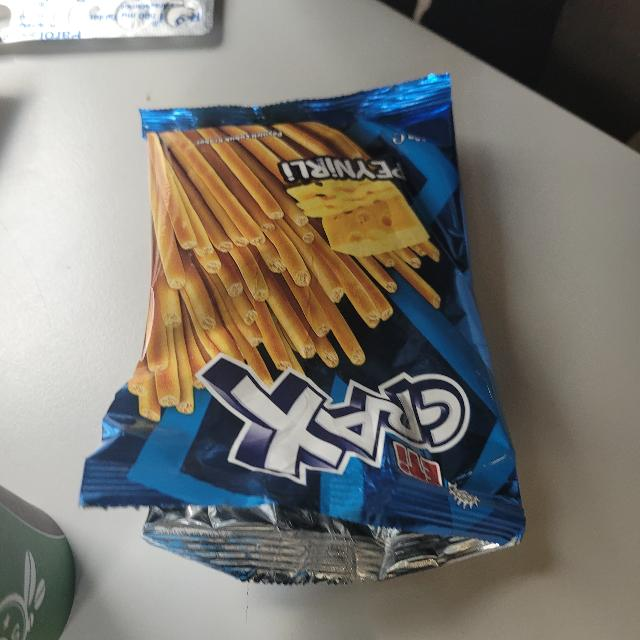Plastik: (77, 70, 553, 586)
